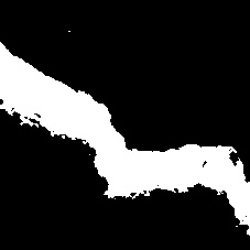crack: (2, 41, 247, 234)
